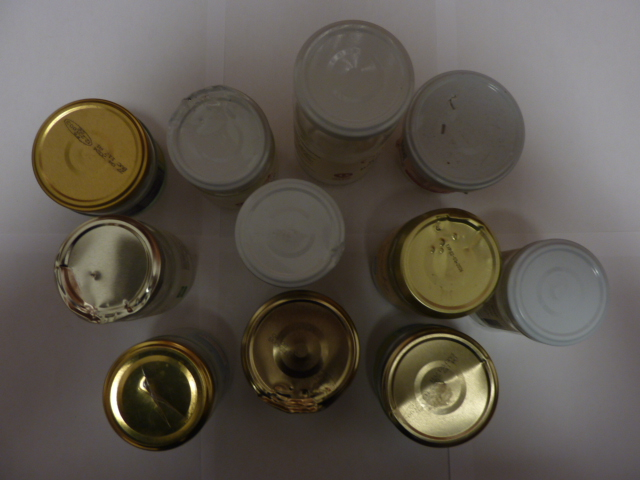damaged: (102, 341, 211, 451)
